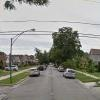Car: (56, 63, 79, 80)
